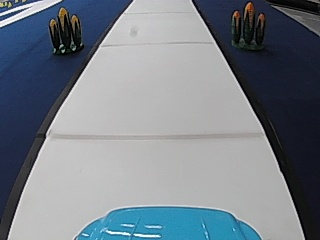corn: (226, 2, 271, 53), (44, 7, 87, 57)
